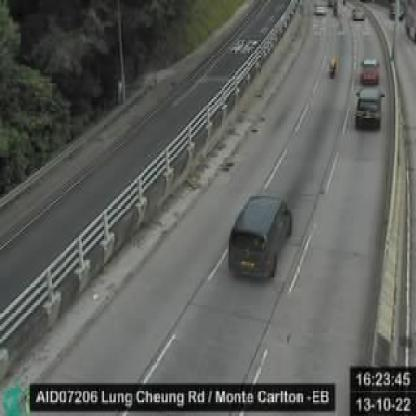Car: (227, 193, 291, 282), (355, 86, 382, 133), (362, 58, 381, 84), (352, 5, 364, 20)
